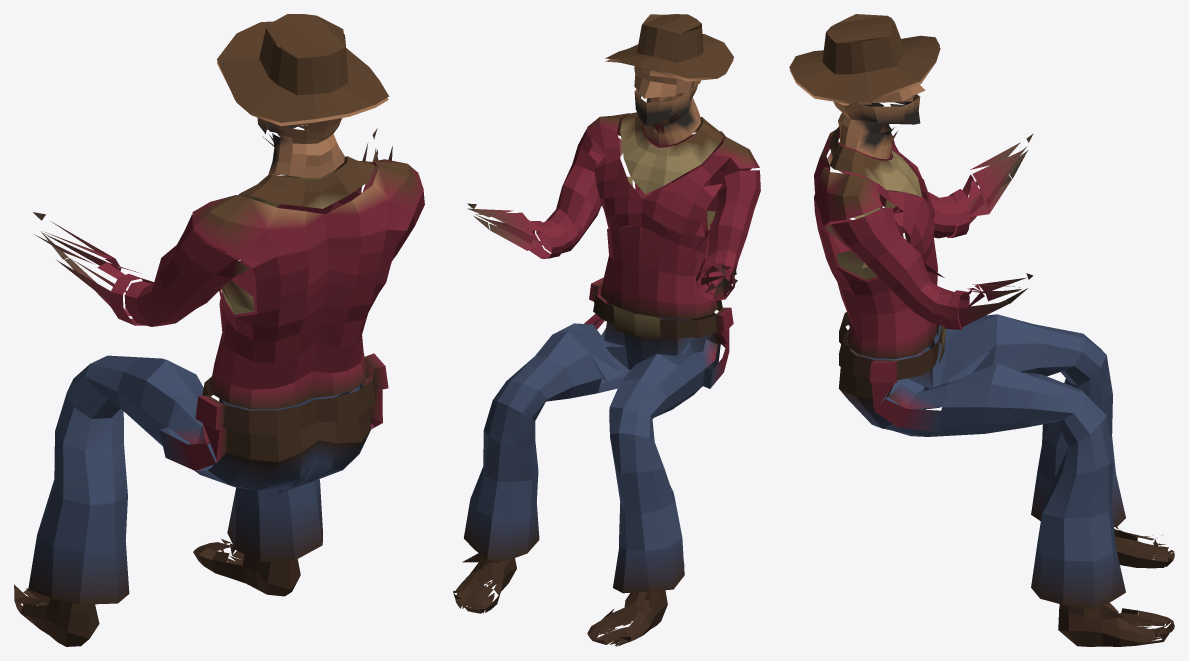
Rendered from man_5_drive.fbx.
3 renders of one model, left to right at view 1: azimuth 30°, elevation 25°; view 2: azimuth 150°, elevation 25°; view 3: azimuth 270°, elevation 25°, orthographic. The views are drawn at different scales.
Parts seen in each view (by area): view 1: cowboy; view 2: cowboy; view 3: cowboy.
Boxes of the visible parts, x1,y1,x2,y2 form: cowboy: [14, 14, 424, 646]; cowboy: [453, 14, 760, 646]; cowboy: [789, 14, 1174, 646].
Size of the model in its own units: 0.4327 by 0.7852 by 0.4748.
